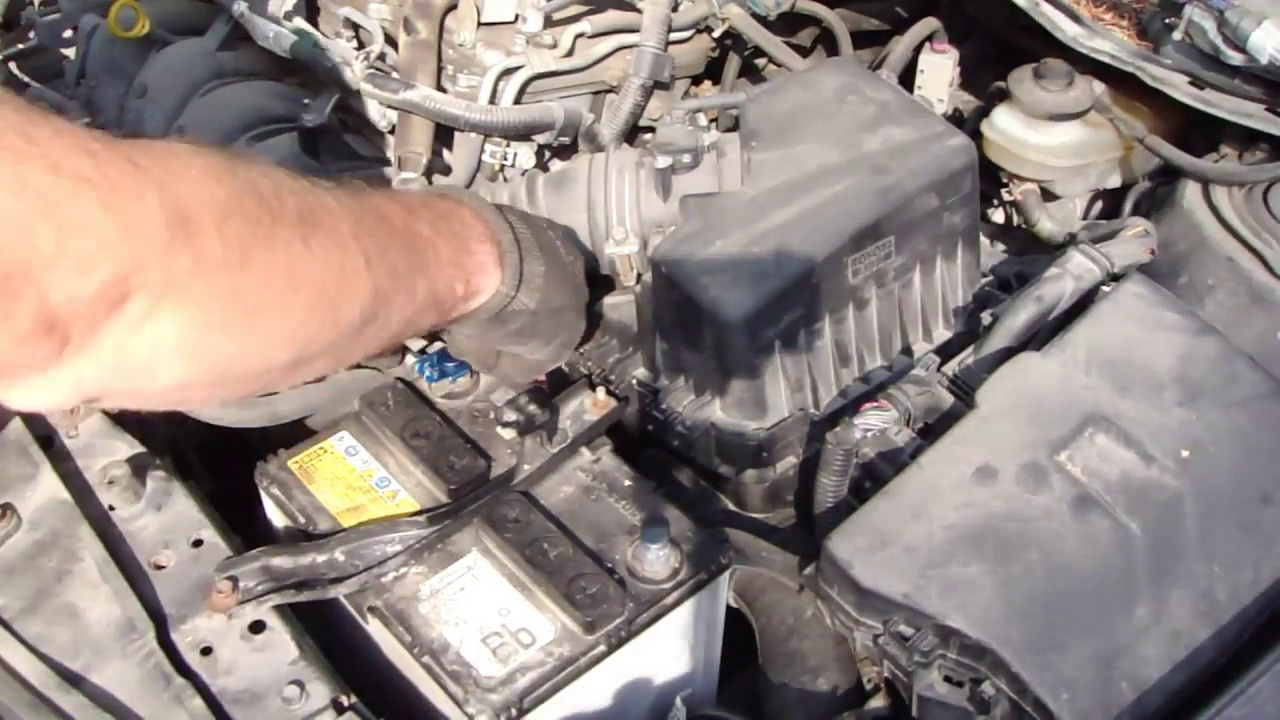battery: (257, 343, 745, 689)
